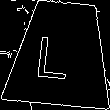L_N: (41, 27, 81, 81)
